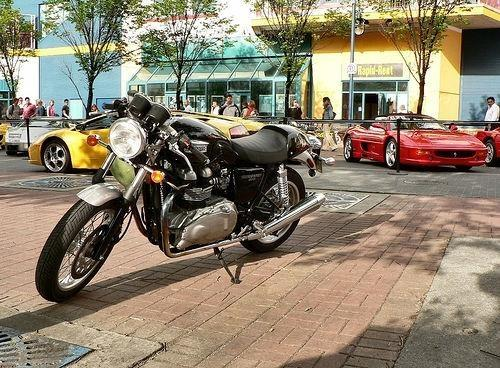car: (28, 112, 267, 172), (341, 114, 490, 170), (5, 119, 71, 154), (475, 126, 500, 168)
motorcycle: (34, 90, 338, 302)
